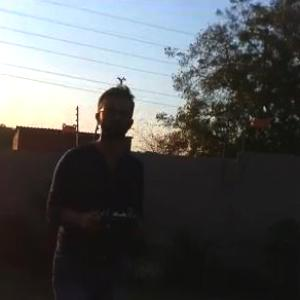follow: (39, 80, 155, 299)
